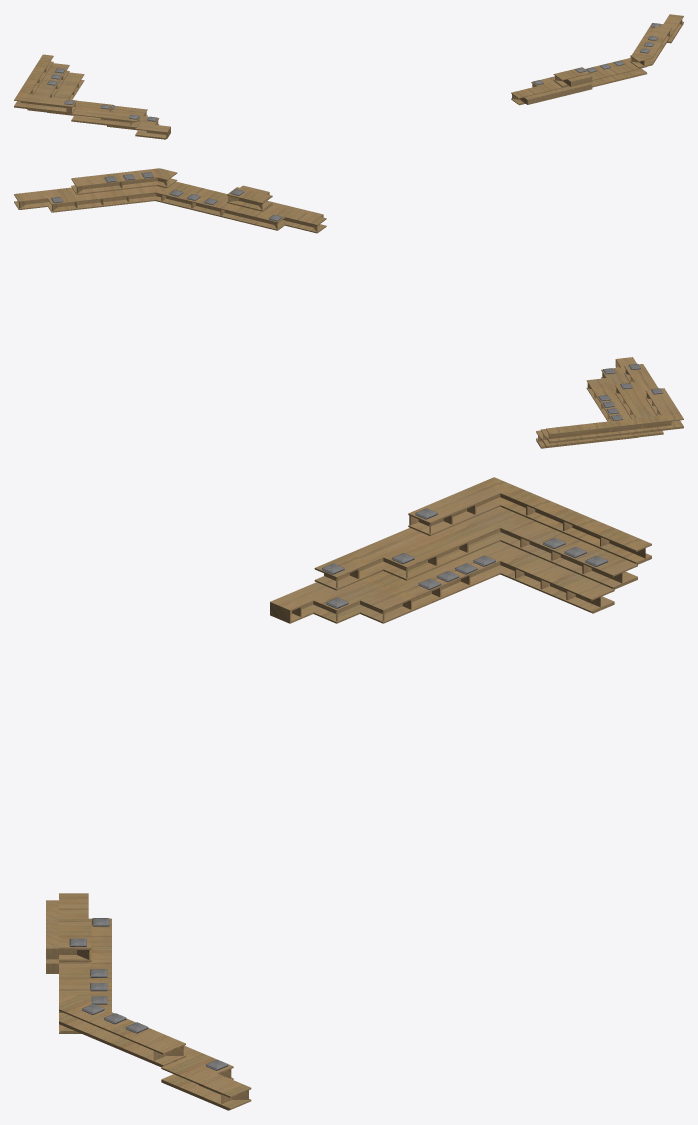
The picture shows the model from 3 angles, top to bottom: view 1: azimuth 30°, elevation 25°; view 2: azimuth 150°, elevation 25°; view 3: azimuth 270°, elevation 25°; orthographic projection. The views are drawn at different scales.
Parts seen in each view (by area): view 1: Group14, Group8, Group5, Group11, Group18, Group25, Group2, Group19, Group13, Group22, Group4, Group1 (+1 smaller); view 2: Group14, Group11, Group8, Group5, Group18, Group21, Group19, Group20, Group13, Group2, Group1, Group22 (+1 smaller); view 3: Group5, Group8, Group14, Group11, Group4, Group2, Group13, Group1, Group18, Group22.
Part boxes in pixels (bbox=[...]): Group14: bbox=[625, 14, 683, 74]; Group8: bbox=[33, 63, 140, 121]; Group5: bbox=[53, 72, 170, 138]; Group11: bbox=[14, 54, 76, 107]; Group18: bbox=[585, 59, 638, 87]; Group25: bbox=[524, 82, 592, 104]; Group2: bbox=[27, 70, 140, 127]; Group19: bbox=[511, 82, 569, 105]; Group13: bbox=[14, 61, 76, 113]; Group22: bbox=[553, 67, 590, 86]; Group4: bbox=[69, 80, 170, 138]; Group1: bbox=[30, 57, 639, 133]; Group14: bbox=[14, 168, 177, 212]; Group11: bbox=[546, 388, 683, 434]; Group8: bbox=[540, 364, 658, 439]; Group5: bbox=[536, 357, 636, 440]; Group18: bbox=[161, 182, 228, 216]; Group21: bbox=[25, 193, 313, 227]; Group19: bbox=[262, 205, 326, 233]; Group20: bbox=[220, 203, 284, 230]; Group13: bbox=[546, 397, 683, 442]; Group2: bbox=[540, 373, 663, 446]; Group1: bbox=[19, 180, 659, 435]; Group22: bbox=[227, 187, 272, 211]; Group5: bbox=[270, 541, 614, 621]; Group8: bbox=[314, 506, 637, 578]; Group14: bbox=[59, 995, 251, 1109]; Group11: bbox=[408, 477, 651, 551]; Group4: bbox=[270, 565, 614, 623]; Group2: bbox=[314, 532, 637, 590]; Group13: bbox=[408, 497, 651, 563]; Group1: bbox=[77, 505, 609, 1099]; Group18: bbox=[59, 963, 111, 1010]; Group22: bbox=[59, 920, 91, 962].
Bounding box in the file's own units: 42221 × 1560 × 18349.
